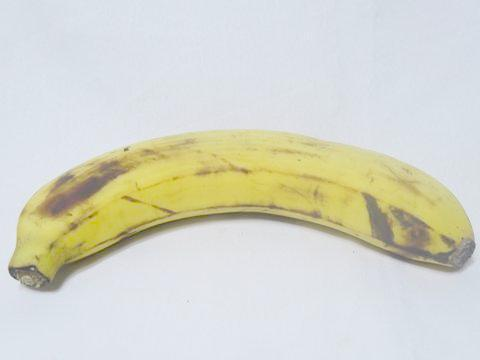overripe: (4, 112, 479, 310)
